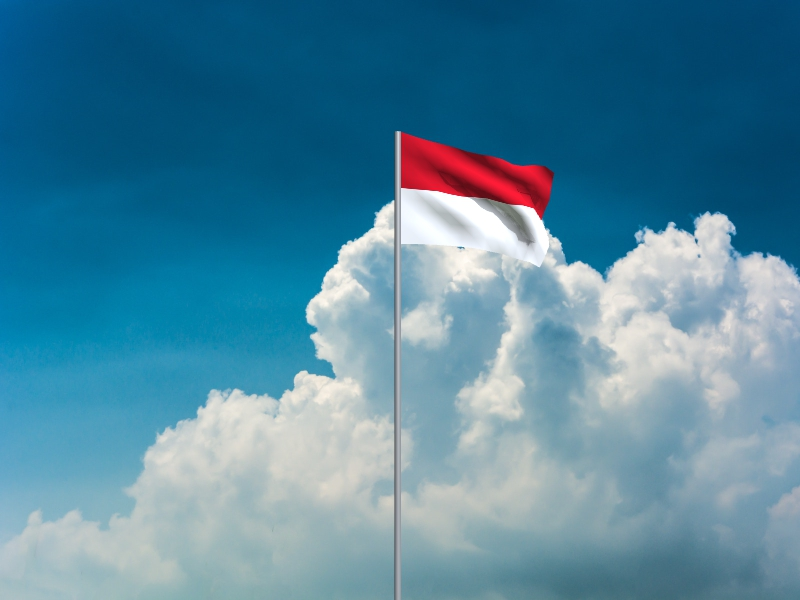mc: (402, 132, 556, 269)
